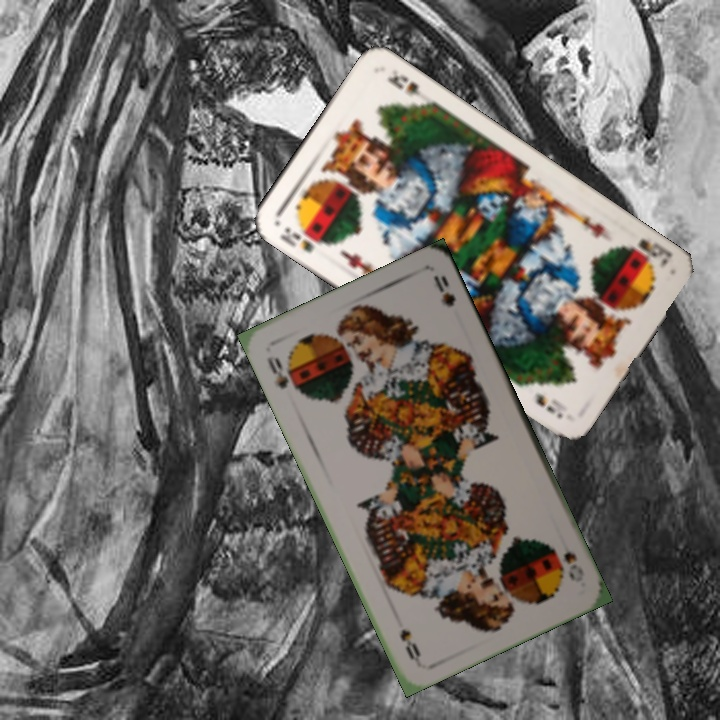SK: (618, 234, 674, 271), (276, 223, 317, 256)
SO: (548, 540, 587, 585), (263, 353, 291, 392)
